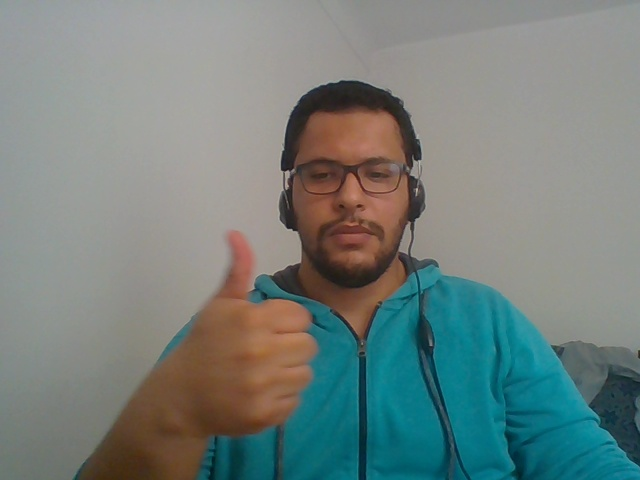ok: (142, 218, 320, 465)
